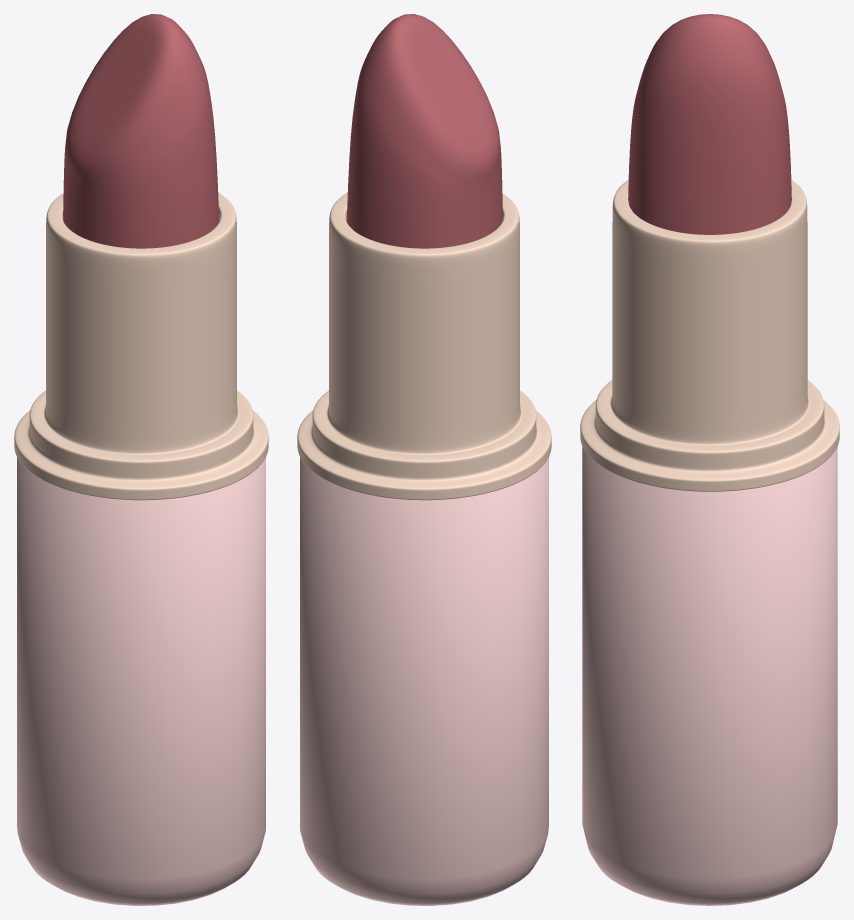
File: lipstick.glb
The picture shows the model from 3 angles, left to right: view 1: azimuth 30°, elevation 25°; view 2: azimuth 150°, elevation 25°; view 3: azimuth 270°, elevation 25°; orthographic projection. The views are drawn at different scales.
Visible parts, largest first — view 1: 円柱, 円柱.001, 立方体.001; view 2: 円柱, 円柱.001, 立方体.001; view 3: 円柱, 円柱.001, 立方体.001.
Part boxes in pixels (box(x1,y1,x2,y2)): 円柱: box(17, 457, 265, 905); 円柱.001: box(14, 192, 268, 500); 立方体.001: box(63, 14, 219, 248); 円柱: box(300, 457, 548, 905); 円柱.001: box(297, 192, 551, 500); 立方体.001: box(346, 14, 502, 248); 円柱: box(582, 447, 837, 905); 円柱.001: box(580, 180, 839, 491); 立方体.001: box(628, 14, 791, 234).
Size of the model in its own units: 2.07 by 7.55 by 2.07.
